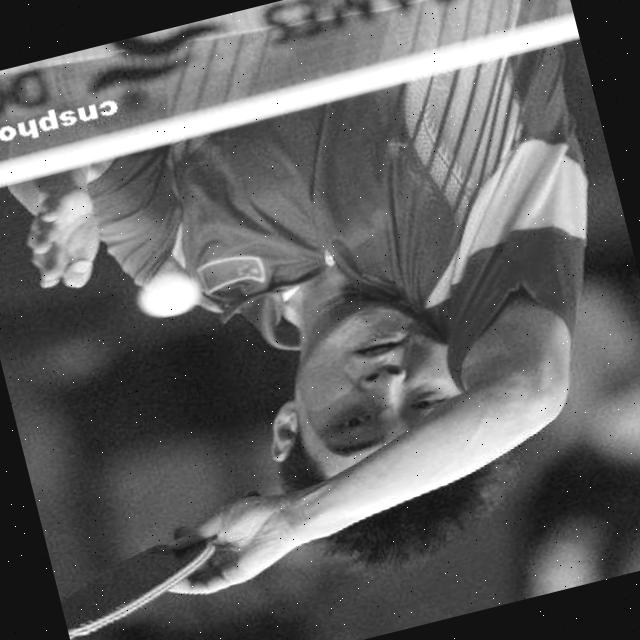ping-pong-ball: (127, 260, 210, 330)
